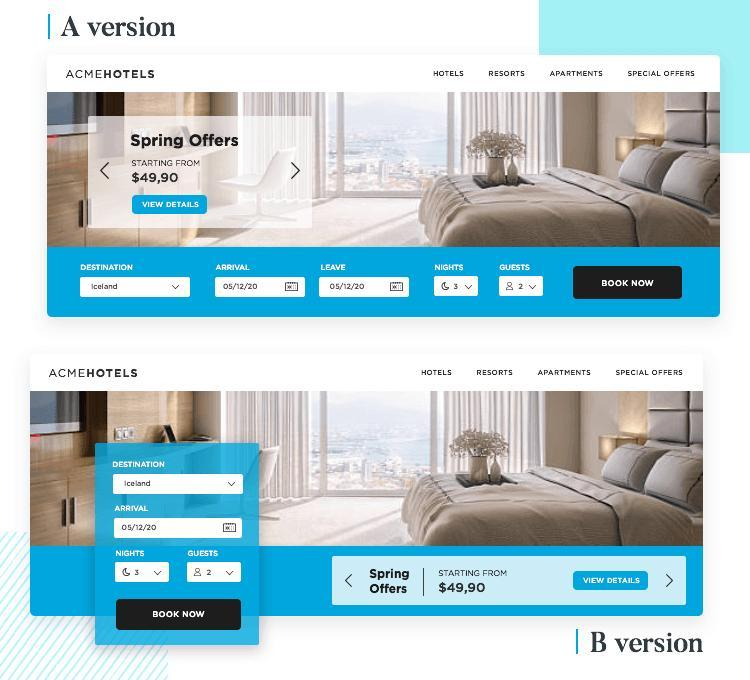button: (117, 600, 244, 632), (573, 268, 683, 302), (573, 572, 650, 592), (132, 196, 209, 215)
dropdown: (113, 475, 245, 495), (81, 278, 191, 298), (115, 563, 171, 583), (187, 564, 243, 583), (499, 276, 546, 298), (435, 276, 480, 296)
icon: (289, 160, 305, 184), (101, 162, 114, 181), (665, 574, 677, 593), (344, 572, 357, 588)
input: (115, 519, 244, 539), (320, 277, 411, 299), (216, 278, 307, 299)
label: (627, 69, 699, 80), (615, 368, 684, 379), (77, 262, 139, 274), (216, 260, 252, 276), (537, 368, 593, 378), (500, 260, 534, 275), (549, 70, 605, 79), (113, 461, 169, 470), (114, 505, 150, 516), (321, 258, 347, 273), (432, 69, 466, 80), (430, 263, 467, 273), (490, 70, 527, 80), (478, 369, 517, 378), (187, 550, 222, 560), (116, 550, 147, 561), (420, 369, 453, 379)
